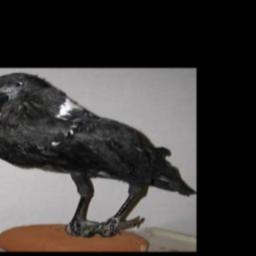Crow: (0, 72, 195, 238)
